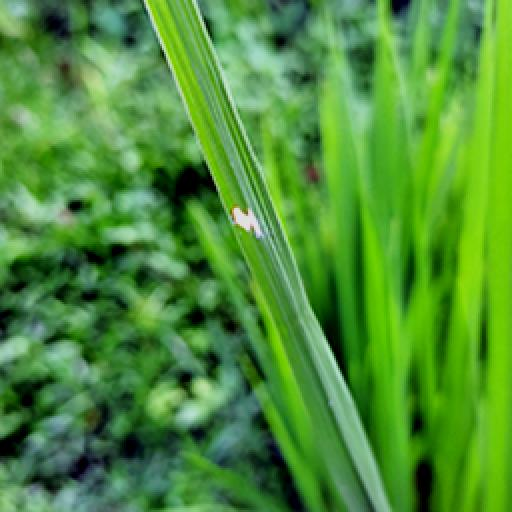Bacterial Leaf Blight: (228, 196, 266, 242)
